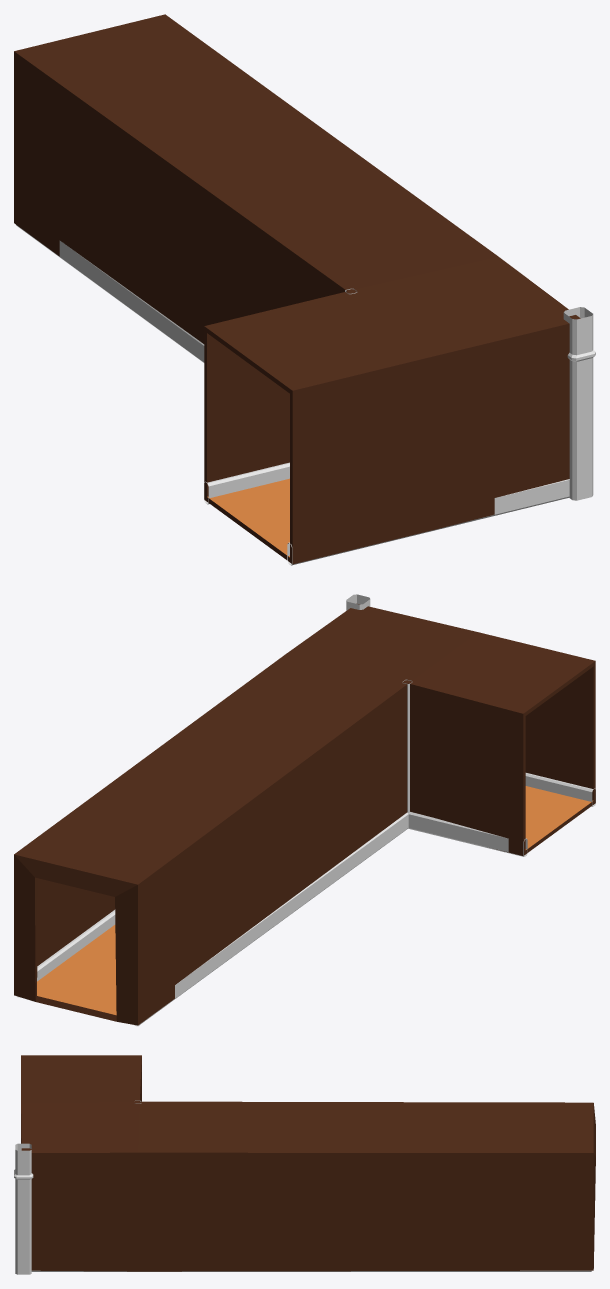
Rendered from ExitCorridor2.fbx.
The picture shows the model from 3 angles, top to bottom: view 1: azimuth 30°, elevation 25°; view 2: azimuth 150°, elevation 25°; view 3: azimuth 270°, elevation 25°; orthographic projection. The views are drawn at different scales.
Parts seen in each view (by area): view 1: Exit_GangTest.001, EdgePillar.002, LongRailU.001, ShortRailM.003, ShortRailS.003; view 2: Exit_GangTest.001, LongRailU.001, ShortRailS.003, ShortRailM.003; view 3: Exit_GangTest.001, EdgePillar.002, LongRailU.001.
Boxes of the visible parts, x1,y1,x2,y2 form: Exit_GangTest.001: (14, 14, 580, 564); EdgePillar.002: (563, 307, 595, 500); LongRailU.001: (16, 225, 204, 362); ShortRailM.003: (287, 479, 569, 565); ShortRailS.003: (204, 462, 289, 504); Exit_GangTest.001: (14, 603, 595, 1025); LongRailU.001: (16, 812, 408, 1026); ShortRailS.003: (408, 812, 527, 856); ShortRailM.003: (525, 773, 595, 806); Exit_GangTest.001: (21, 1055, 595, 1271); EdgePillar.002: (14, 1143, 33, 1274); LongRailU.001: (31, 1270, 591, 1271).
Size of the model in its own units: 455 by 263 by 1117.
